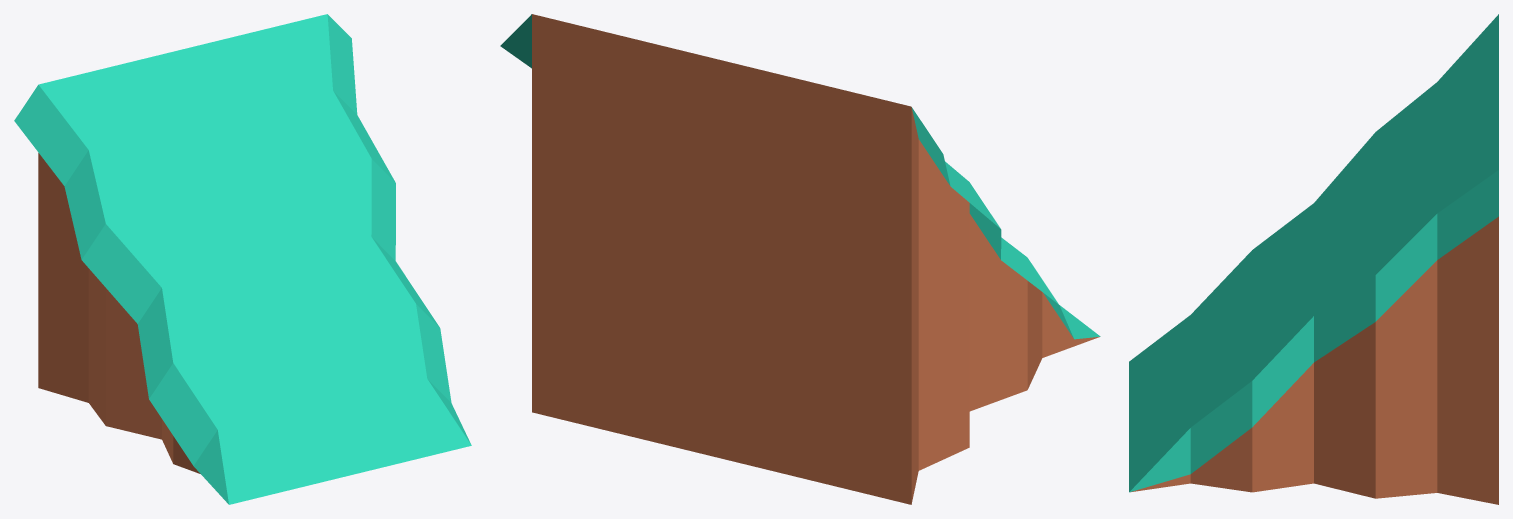
The model's file is dirtslope.obj.
3 renders of one model, left to right at view 1: azimuth 30°, elevation 25°; view 2: azimuth 150°, elevation 25°; view 3: azimuth 270°, elevation 25°, orthographic. The views are drawn at different scales.
Visible parts, largest first — view 1: cliff_blockSlope_rock; view 2: cliff_blockSlope_rock; view 3: cliff_blockSlope_rock.
Boxes of the visible parts, x1,y1,x2,y2 form: cliff_blockSlope_rock: [14, 14, 471, 504]; cliff_blockSlope_rock: [500, 14, 1100, 504]; cliff_blockSlope_rock: [1129, 14, 1498, 504].
Bounding box in the file's own units: 1.16 × 1 × 1.
